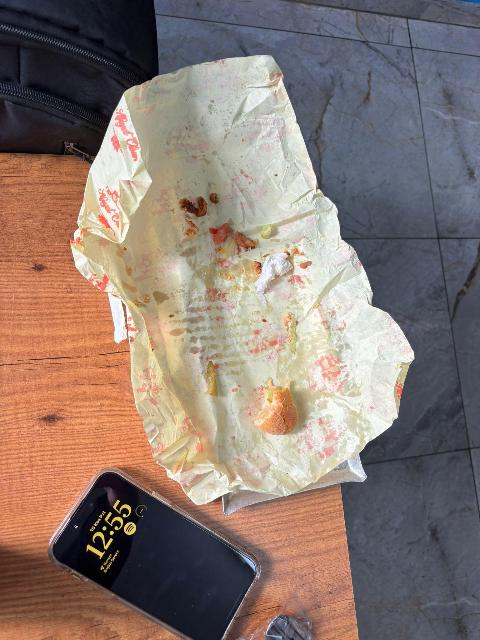Kagit: (70, 67, 411, 489)
Organik: (245, 378, 303, 434), (180, 194, 211, 216), (259, 225, 283, 242), (213, 219, 230, 242)
